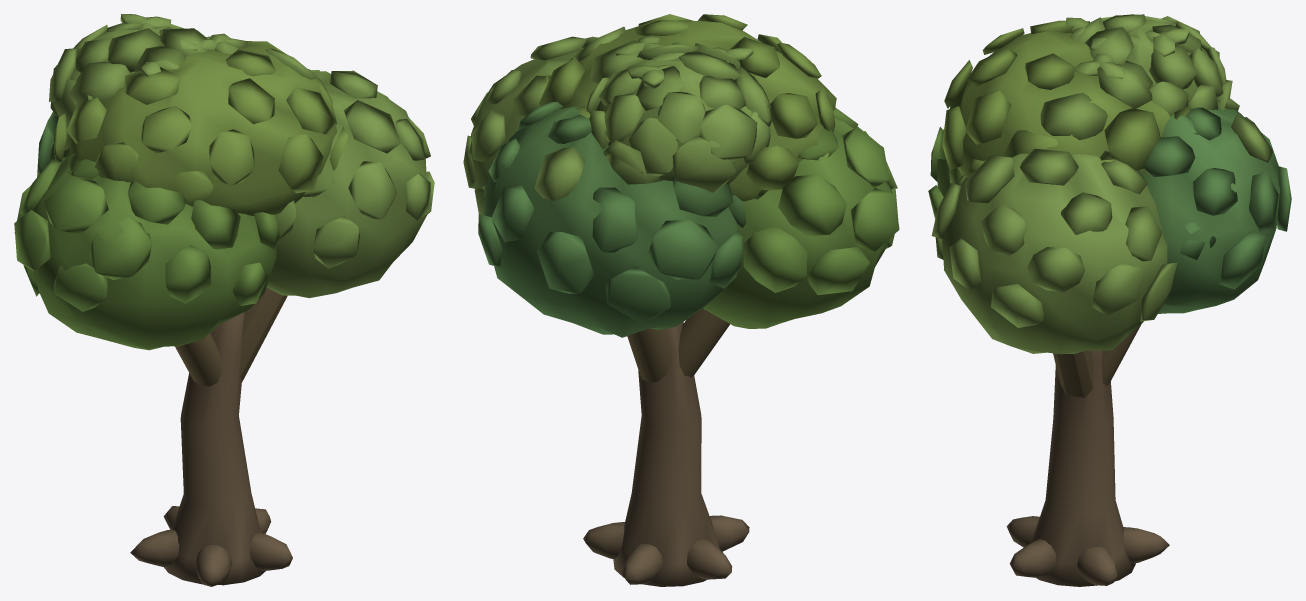
File: tree_oak.glb
The picture shows the model from 3 angles, left to right: view 1: azimuth 30°, elevation 25°; view 2: azimuth 150°, elevation 25°; view 3: azimuth 270°, elevation 25°; orthographic projection. The views are drawn at different scales.
Visible parts, largest first — view 1: Oak_round_leaf_crown, Oak_leaf_clusters_0, Oak_round_leaf_crown.003, Oak_leaf_clusters_3, Oak_trunk, Oak_round_leaf_crown.001, Oak_leaf_clusters_1, Oak_leaf_clusters_4, Oak_bough.001, Oak_bough, Oak_root.002, Oak_extra_root (+2 smaller); view 2: Oak_leaf_clusters_2, Oak_round_leaf_crown.002, Oak_leaf_clusters_4, Oak_trunk, Oak_leaf_clusters_0, Oak_round_leaf_crown, Oak_leaf_clusters_3, Oak_round_leaf_crown.003, Oak_leaf_clusters_1, Oak_round_leaf_crown.001, Oak_bough, Oak_bough.002 (+5 smaller); view 3: Oak_round_leaf_crown.001, Oak_leaf_clusters_1, Oak_leaf_clusters_3, Oak_trunk, Oak_round_leaf_crown.002, Oak_leaf_clusters_2, Oak_round_leaf_crown.003, Oak_leaf_clusters_4, Oak_bough.001, Oak_extra_root, Oak_root, Oak_root.001 (+4 smaller).
Boxes of the visible parts, x1,y1,x2,y2 form: Oak_round_leaf_crown: [33, 155, 276, 350]; Oak_leaf_clusters_0: [14, 148, 284, 311]; Oak_round_leaf_crown.003: [65, 46, 336, 216]; Oak_leaf_clusters_3: [53, 36, 348, 203]; Oak_trunk: [164, 312, 265, 585]; Oak_round_leaf_crown.001: [266, 71, 427, 298]; Oak_leaf_clusters_1: [275, 70, 434, 268]; Oak_leaf_clusters_4: [49, 23, 207, 134]; Oak_bough.001: [240, 287, 287, 382]; Oak_bough: [175, 333, 221, 386]; Oak_root.002: [130, 529, 179, 566]; Oak_extra_root: [249, 532, 292, 570]; Oak_leaf_clusters_2: [478, 101, 745, 323]; Oak_round_leaf_crown.002: [483, 106, 737, 337]; Oak_leaf_clusters_4: [586, 43, 771, 192]; Oak_trunk: [613, 322, 722, 586]; Oak_leaf_clusters_0: [743, 107, 899, 295]; Oak_round_leaf_crown: [703, 117, 896, 328]; Oak_leaf_clusters_3: [539, 14, 835, 190]; Oak_round_leaf_crown.003: [560, 20, 836, 201]; Oak_leaf_clusters_1: [463, 36, 598, 214]; Oak_round_leaf_crown.001: [469, 48, 583, 189]; Oak_bough: [678, 308, 729, 377]; Oak_bough.002: [627, 328, 671, 383]; Oak_round_leaf_crown.001: [942, 153, 1167, 354]; Oak_leaf_clusters_1: [931, 148, 1177, 327]; Oak_leaf_clusters_3: [942, 20, 1190, 177]; Oak_trunk: [1031, 350, 1135, 586]; Oak_round_leaf_crown.002: [1142, 105, 1279, 313]; Oak_leaf_clusters_2: [1143, 97, 1291, 289]; Oak_round_leaf_crown.003: [950, 31, 1169, 177]; Oak_leaf_clusters_4: [1077, 14, 1232, 115]; Oak_bough.001: [1053, 350, 1093, 398]; Oak_extra_root: [1009, 539, 1055, 577]; Oak_root: [1077, 546, 1117, 585]; Oak_root.001: [1123, 527, 1169, 563].
Size of the model in its own units: 2.41 by 3.05 by 1.92.
